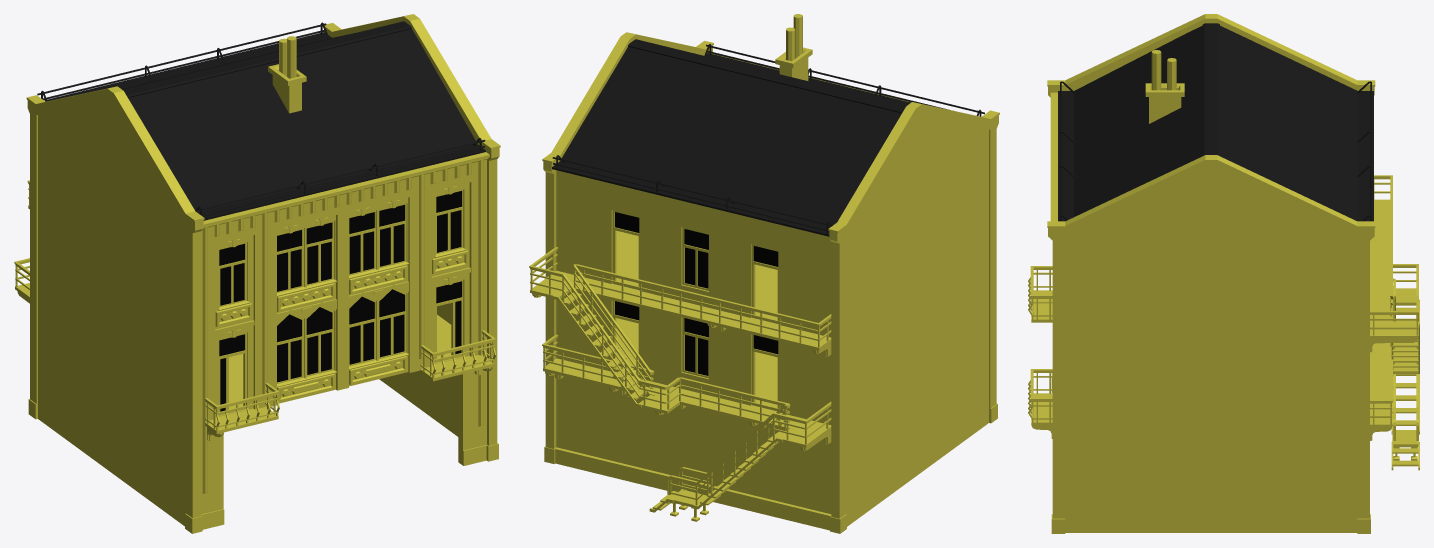
The model's file is SM_third_house_2.fbx.
3 views of the same model, side by side, from view 1: azimuth 30°, elevation 25°; view 2: azimuth 150°, elevation 25°; view 3: azimuth 270°, elevation 25° (orthographic). The views are drawn at different scales.
Visible parts, largest first — view 1: Cylinder_34; view 2: Cylinder_34; view 3: Cylinder_34.
Part boxes in pixels (x1,y1,x2,y2): Cylinder_34: (14,14,500,533); Cylinder_34: (529,14,999,533); Cylinder_34: (1028,14,1419,533).
Size of the model in its own units: 1064 by 1390 by 1206.
